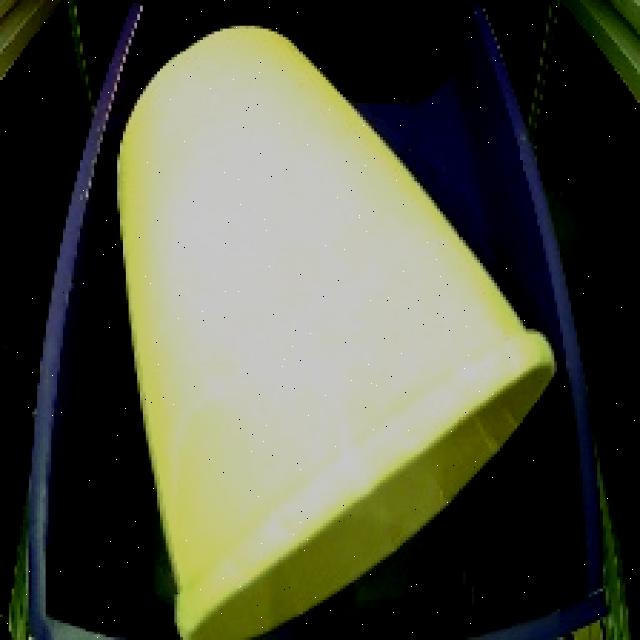cups: (103, 19, 577, 640)
